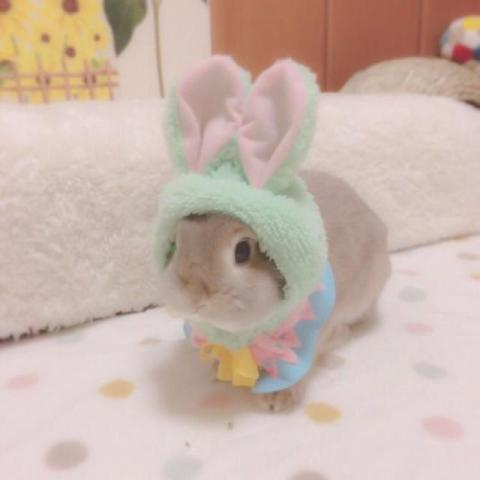small_animal: (149, 53, 393, 411)
